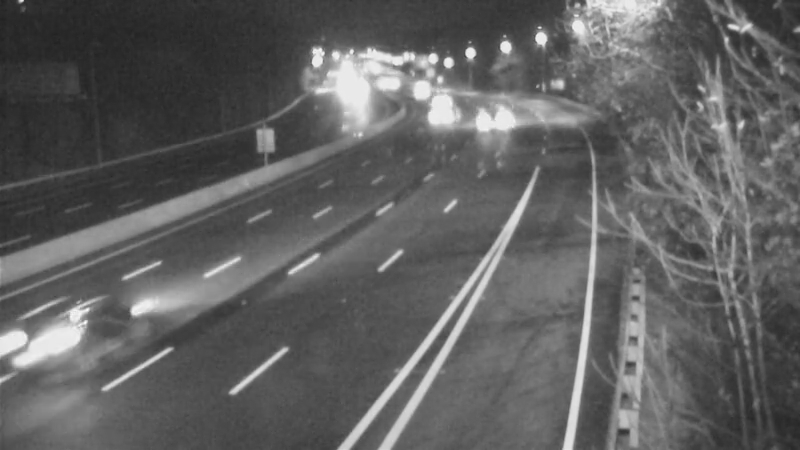vehicle: (11, 284, 121, 394), (397, 68, 447, 118), (418, 78, 468, 128), (416, 90, 466, 140), (463, 95, 513, 145)
